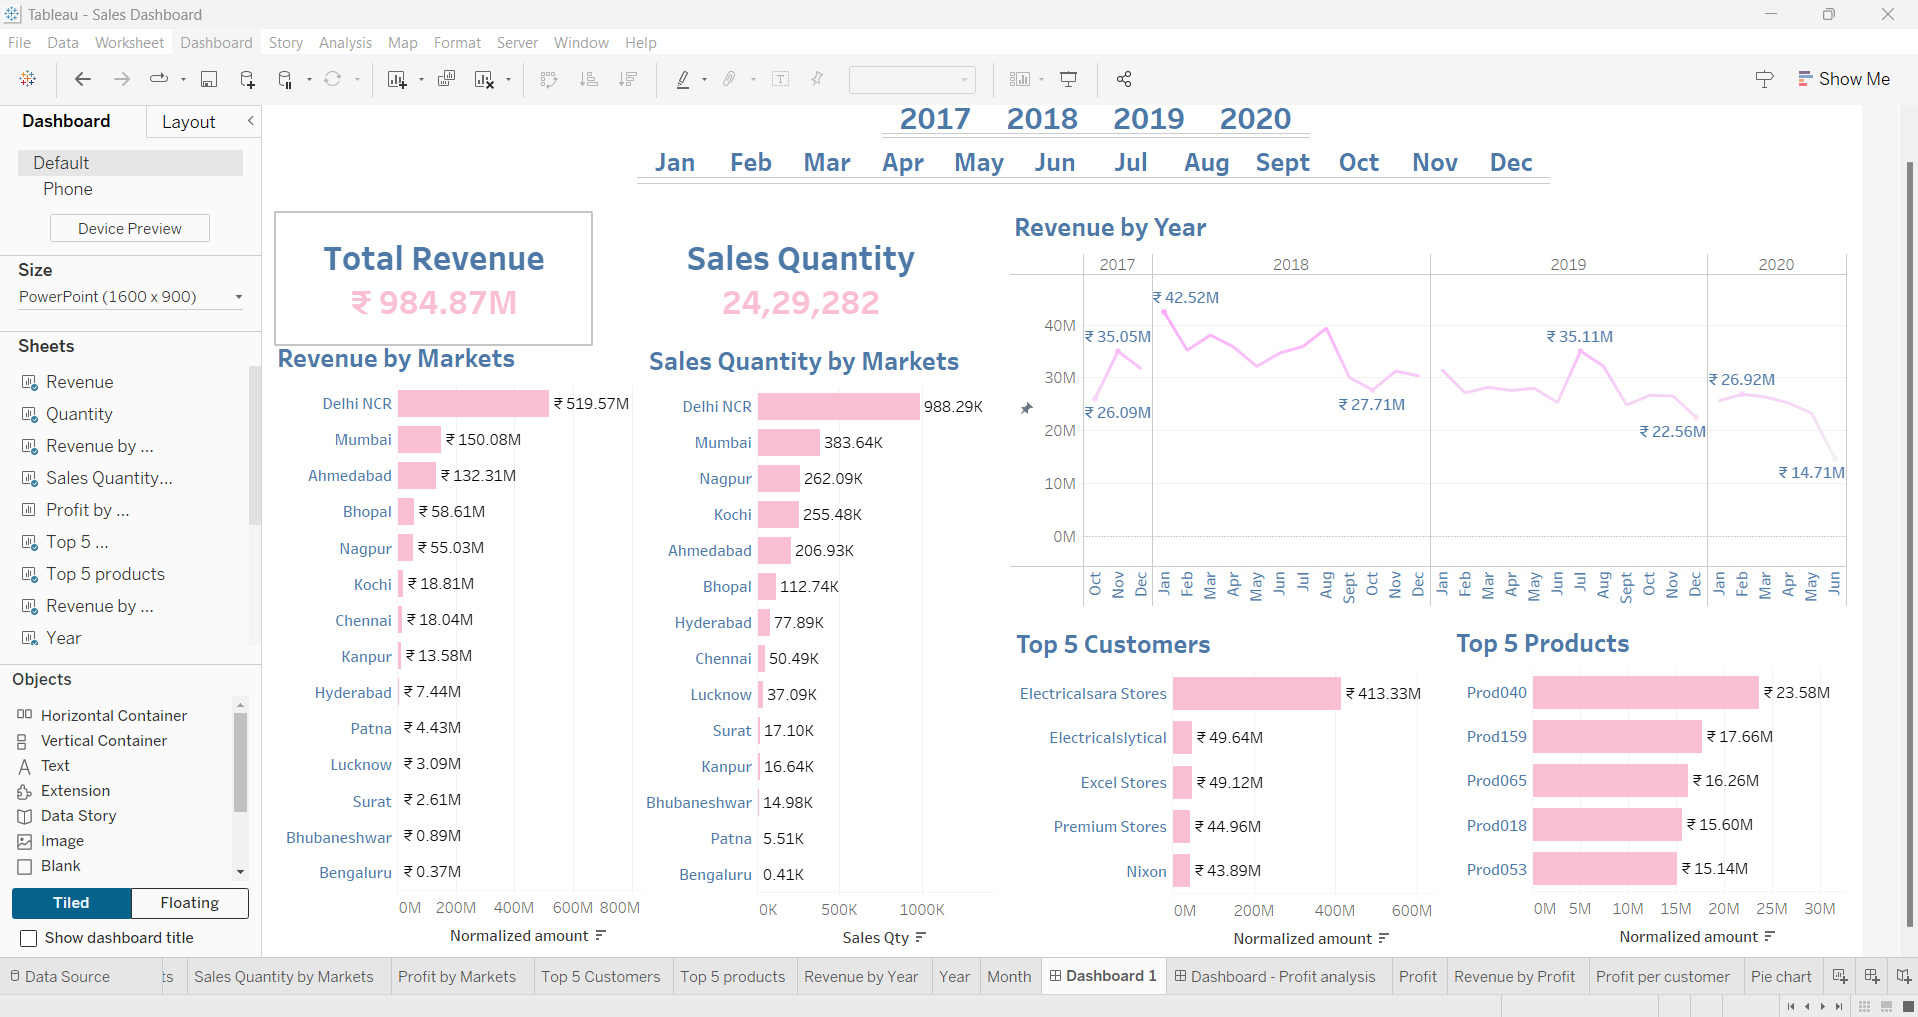

Layout of this report page (visuals, bound fields, positions):
{"tool":"tableau","page":{"name":"Dashboard 1","canvas":[1600,900],"ordinal":1},"visuals":[{"type":"worksheet","title":"Year","mark":"Automatic","cols":["cy_date"],"box":[620,35,428,37]},{"type":"worksheet","title":"Month","mark":"Automatic","cols":["cy_date"],"box":[375,79,919,42]},{"type":"worksheet","title":"Revenue by Year","mark":"Line","rows":["Calculation_1577667278819893248"],"cols":["cy_date","cy_date"],"box":[748,139,837,402]},{"type":"worksheet","title":"Quantity","mark":"Automatic","box":[385,146,308,134]},{"type":"worksheet","title":"Revenue","mark":"Automatic","box":[14,147,315,131]},{"type":"worksheet","title":"Revenue by Markets","mark":"Automatic","rows":["markets_name"],"cols":["Calculation_1577667278819893248"],"box":[11,270,369,618]},{"type":"worksheet","title":"Sales Quantity by Markets","mark":"Automatic","rows":["markets_name"],"cols":["sales_qty"],"box":[383,273,350,616]},{"type":"worksheet","title":"Top 5 products","mark":"Automatic","rows":["product_code (products)"],"cols":["Calculation_1577667278819893248"],"box":[1190,555,394,333]},{"type":"worksheet","title":"Top 5 Customers","mark":"Automatic","rows":["custmer_name"],"cols":["Calculation_1577667278819893248"],"box":[750,556,422,334]}]}

Visuals, with their boxes on the page's 1600x900 design canvas (x1, y1, x2, y2). These are canvas units, not pixel positions in the 1918x1017 screenshot, which may show the page scaled, cropped or inside an application window:
"Year" worksheet: (620, 35, 1048, 72)
"Month" worksheet: (375, 79, 1294, 121)
"Revenue by Year" worksheet (Line marks): (748, 139, 1585, 541)
"Quantity" worksheet: (385, 146, 693, 280)
"Revenue" worksheet: (14, 147, 329, 278)
"Revenue by Markets" worksheet: (11, 270, 380, 888)
"Sales Quantity by Markets" worksheet: (383, 273, 733, 889)
"Top 5 products" worksheet: (1190, 555, 1584, 888)
"Top 5 Customers" worksheet: (750, 556, 1172, 890)
